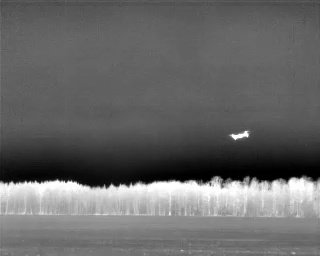DRONE: (226, 125, 254, 145)
